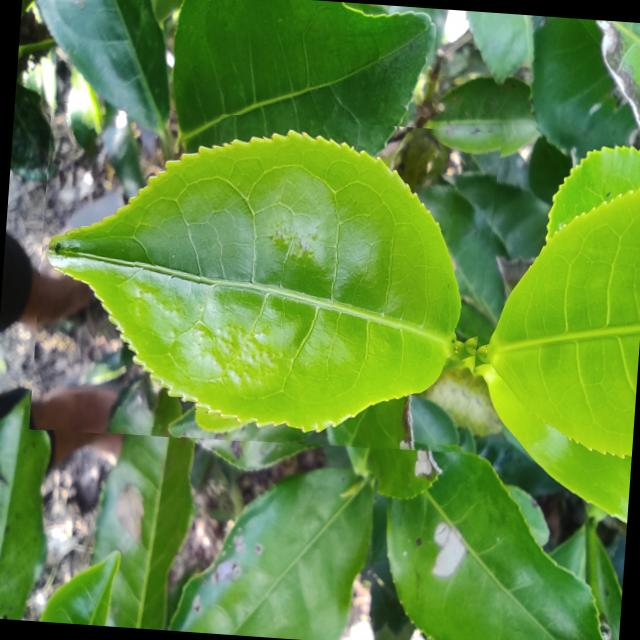Category B(2-4 days): (29, 100, 503, 460)
